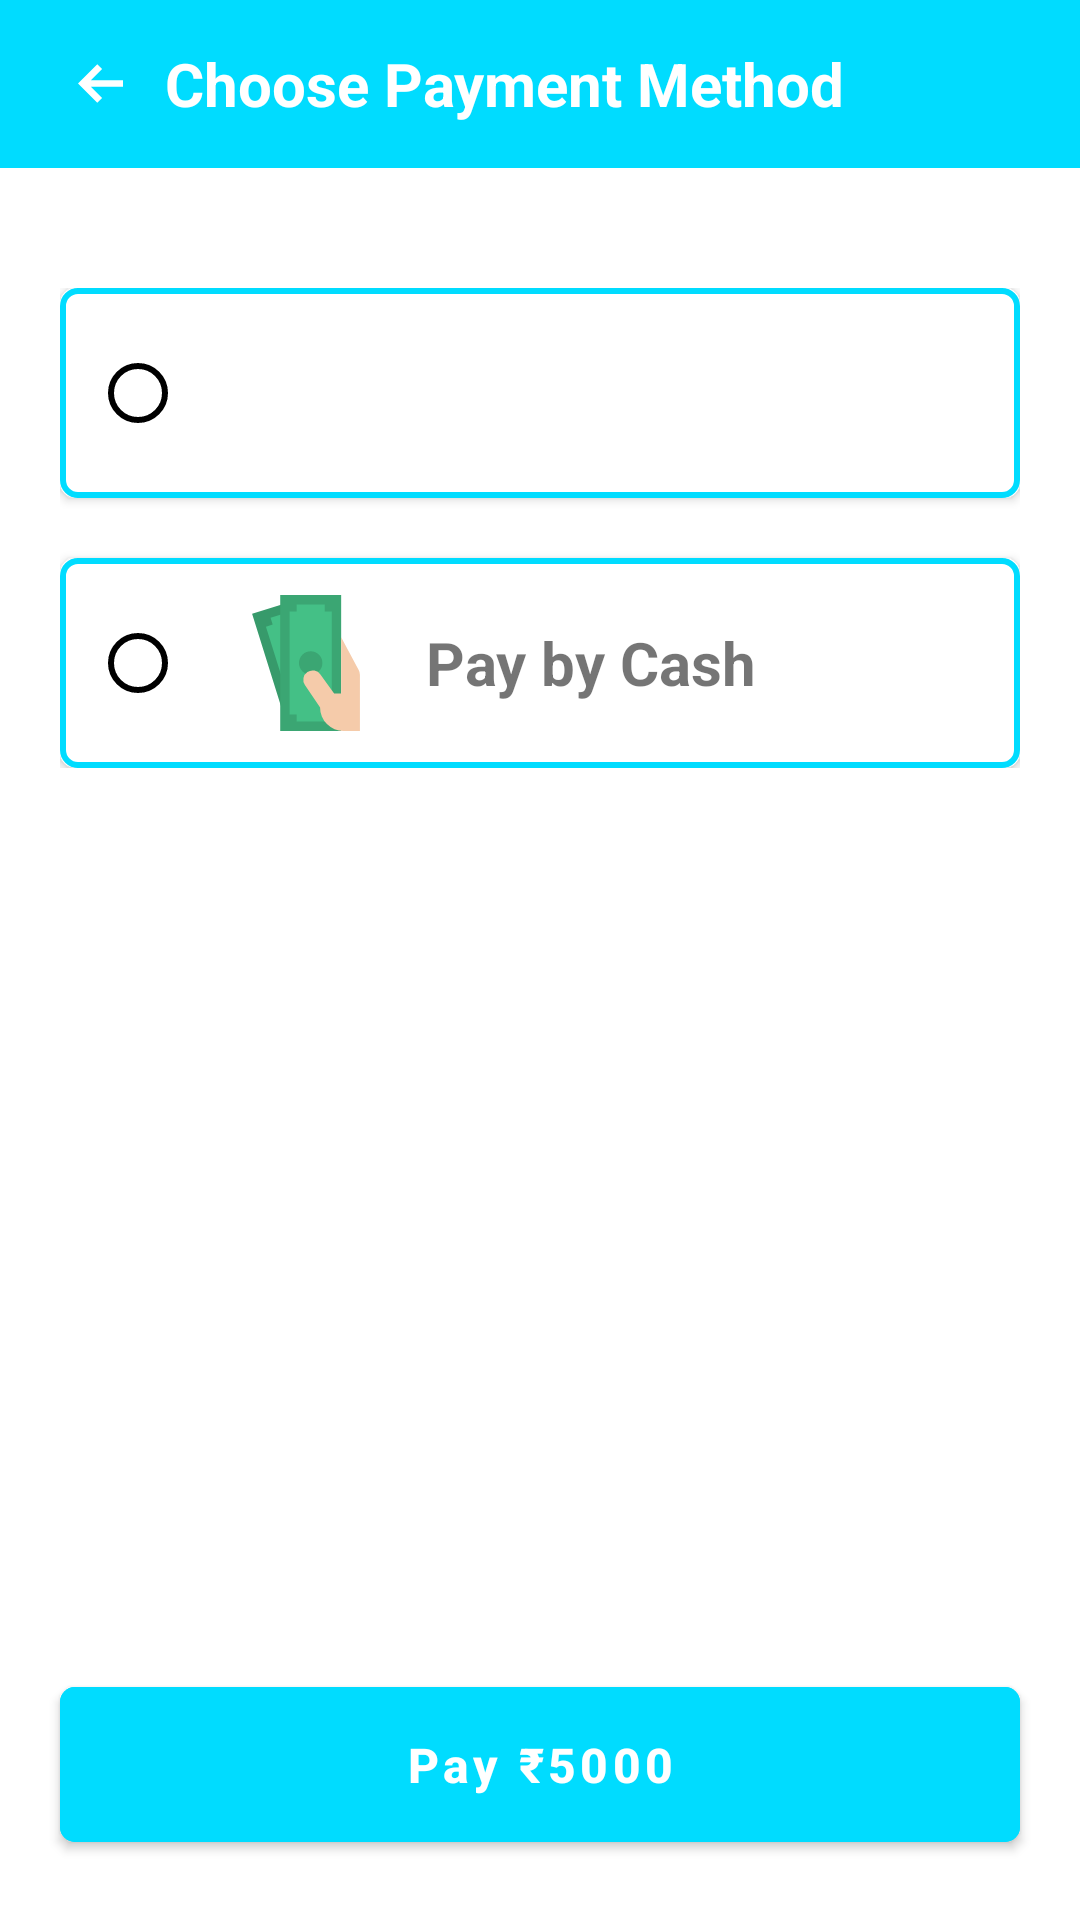

Icon bounding boxes for this 1080 x 1920 phone screenshot, format box(x1, y1, x2, y2):
left arrow: box(78, 64, 123, 103)
